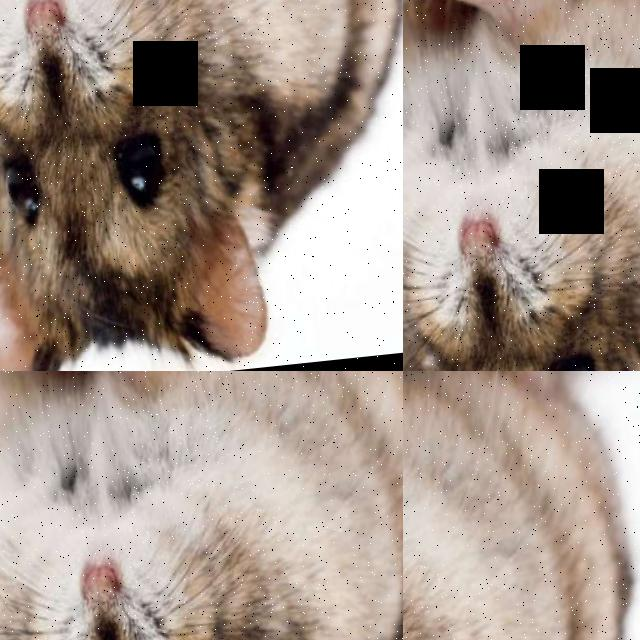hamster: (403, 0, 640, 371), (403, 371, 640, 640), (0, 0, 109, 339)
